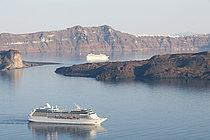Ship: (25, 101, 111, 130)
